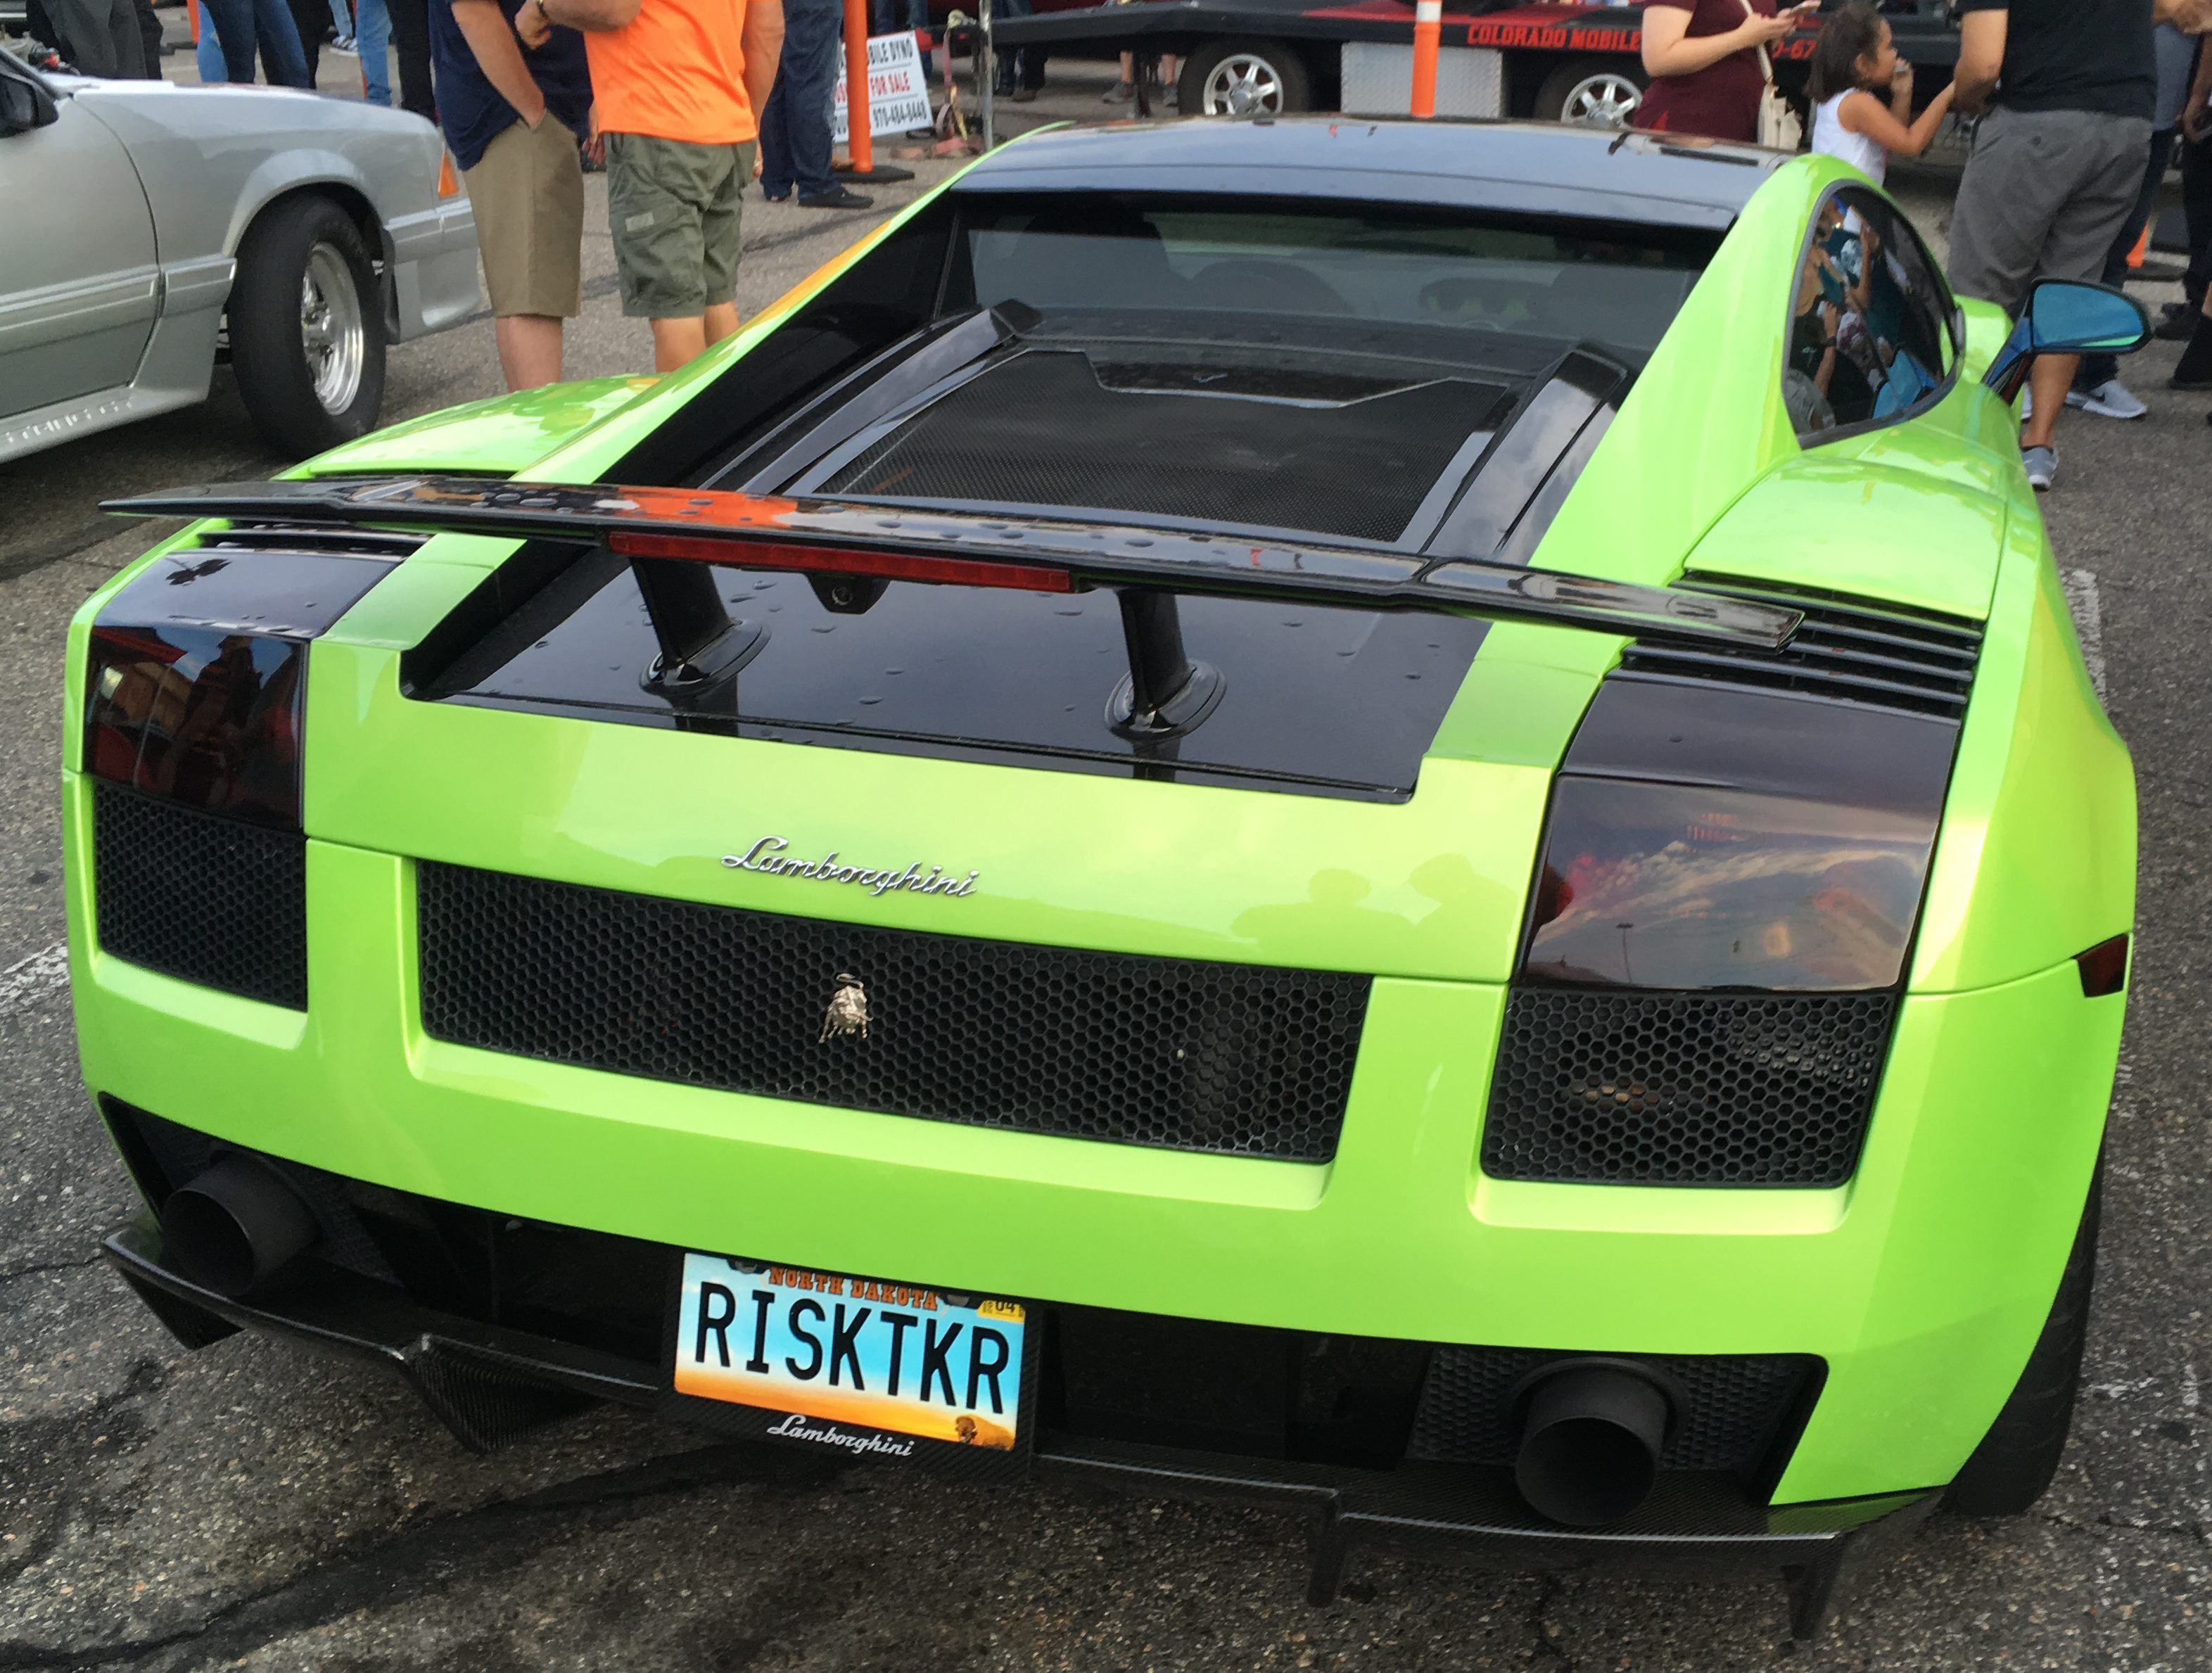number_plates: (694, 1238, 1026, 1457)
